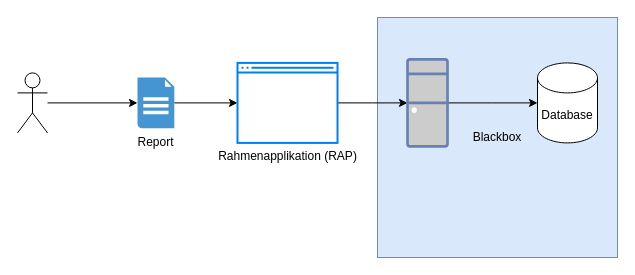
The diagram is 635 pixels wide and 275 high, and some of its shapes have lost their labels. Each missing label, with the centre of its shape:
Actor: pixel 32 102
Backend: pixel 427 102
